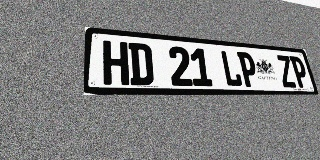1: (189, 47, 213, 86)
2: (168, 46, 193, 86)
D: (128, 42, 154, 85)
H: (103, 40, 129, 85)
L: (220, 50, 243, 87)
P: (237, 52, 260, 87), (289, 56, 310, 88)
Z: (276, 55, 297, 87)
